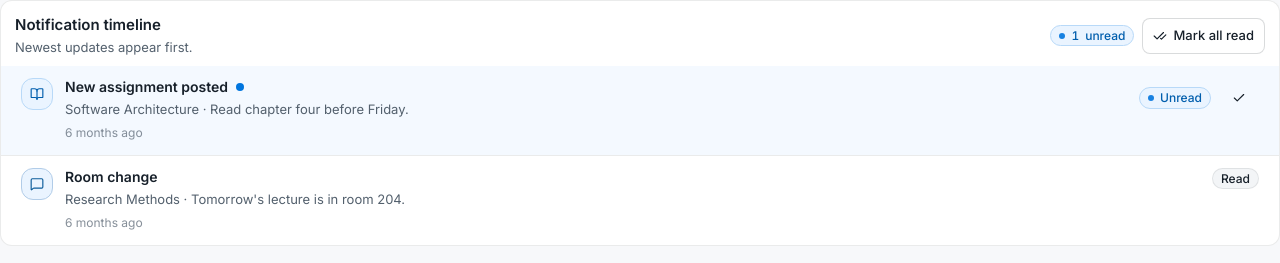
NotificationsClient › marks one unread notification optimistically and keeps the server action in flight
Click the button named "Mark New assignment posted as read" at [1239, 98], box x1=1219 y1=78 x2=1259 y2=118
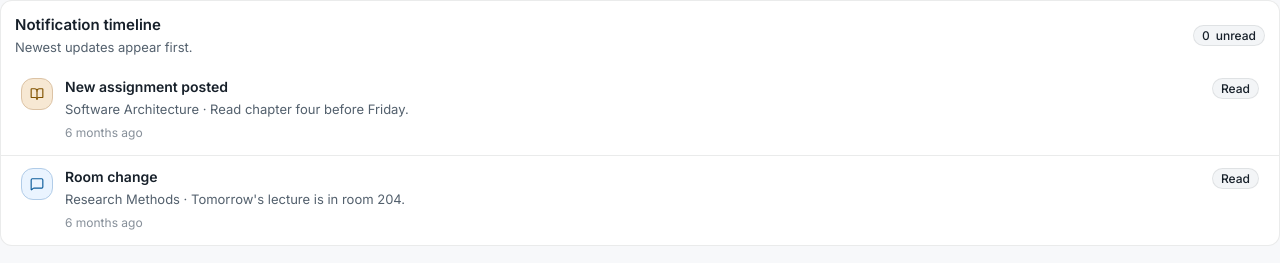
Now the text "Read" is shown 2 times, box x1=1212 y1=78 x2=1259 y2=99; x1=1212 y1=168 x2=1259 y2=189
